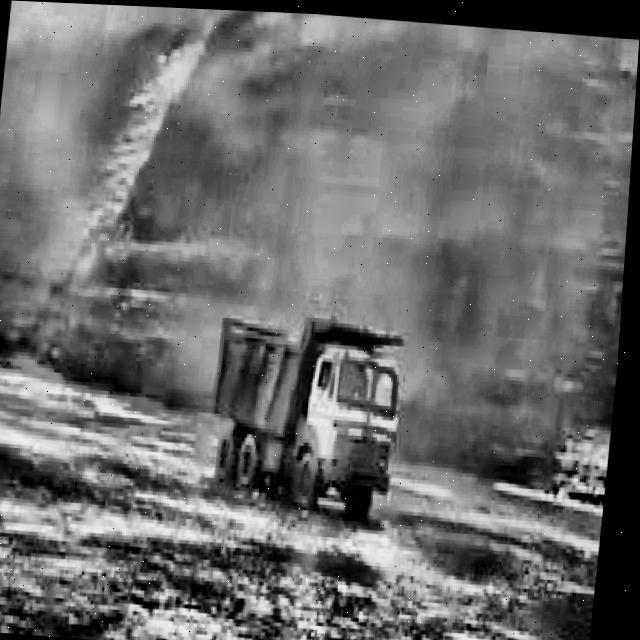dump_truck: (205, 312, 417, 528)
